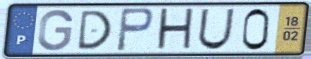0: (240, 7, 272, 52)
D: (75, 9, 114, 52)
G: (36, 8, 76, 53)
H: (154, 6, 196, 53)
P: (114, 6, 156, 53)
U: (195, 7, 237, 51)
